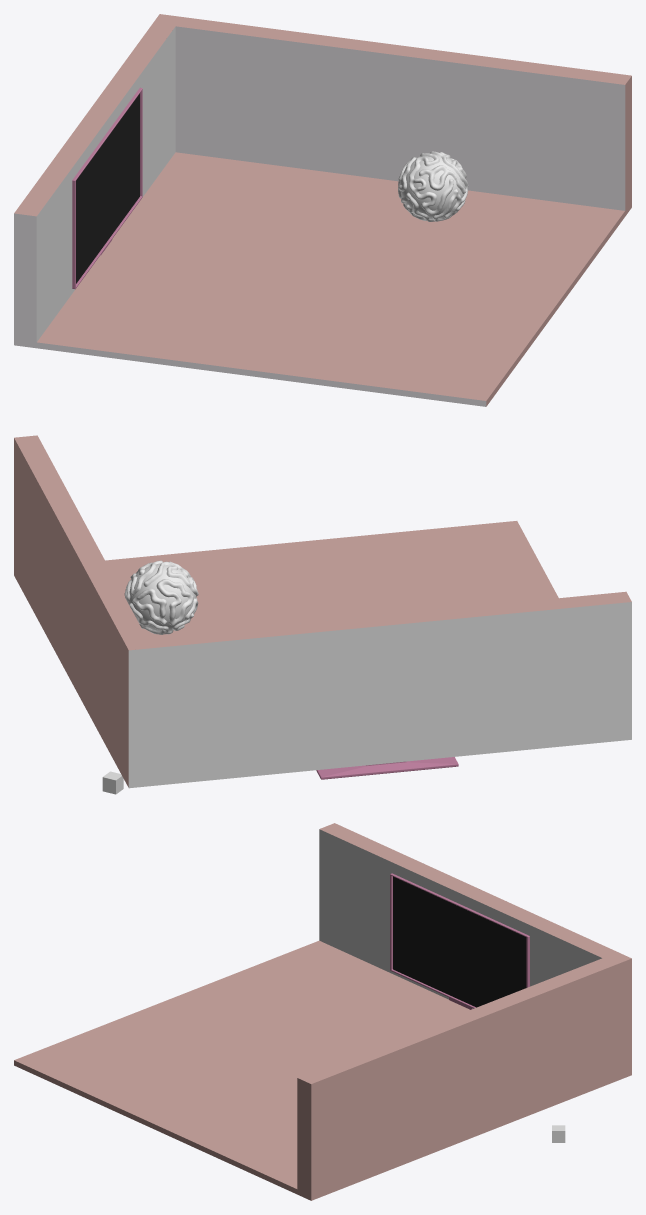
File: RunenteScene3.glb
3 views of the same model, one above another, from view 1: azimuth 30°, elevation 25°; view 2: azimuth 150°, elevation 25°; view 3: azimuth 270°, elevation 25° (orthographic). The views are drawn at different scales.
Parts seen in each view (by area): view 1: Body, Computer, detalles, base; view 2: Body, detalles, base, Computer; view 3: Body, Computer.
Boxes of the visible parts, x1=… form: Body: x1=14, y1=14, x2=631, y2=406; Computer: x1=72, y1=87, x2=142, y2=289; detalles: x1=398, y1=151, x2=468, y2=221; base: x1=399, y1=153, x2=465, y2=219; Body: x1=14, y1=435, x2=631, y2=788; detalles: x1=124, y1=560, x2=198, y2=634; base: x1=128, y1=563, x2=196, y2=631; Computer: x1=316, y1=757, x2=458, y2=779; Body: x1=14, y1=823, x2=631, y2=1200; Computer: x1=390, y1=873, x2=529, y2=1009.
Size of the model in its own units: 93.52 by 26.25 by 93.53.
